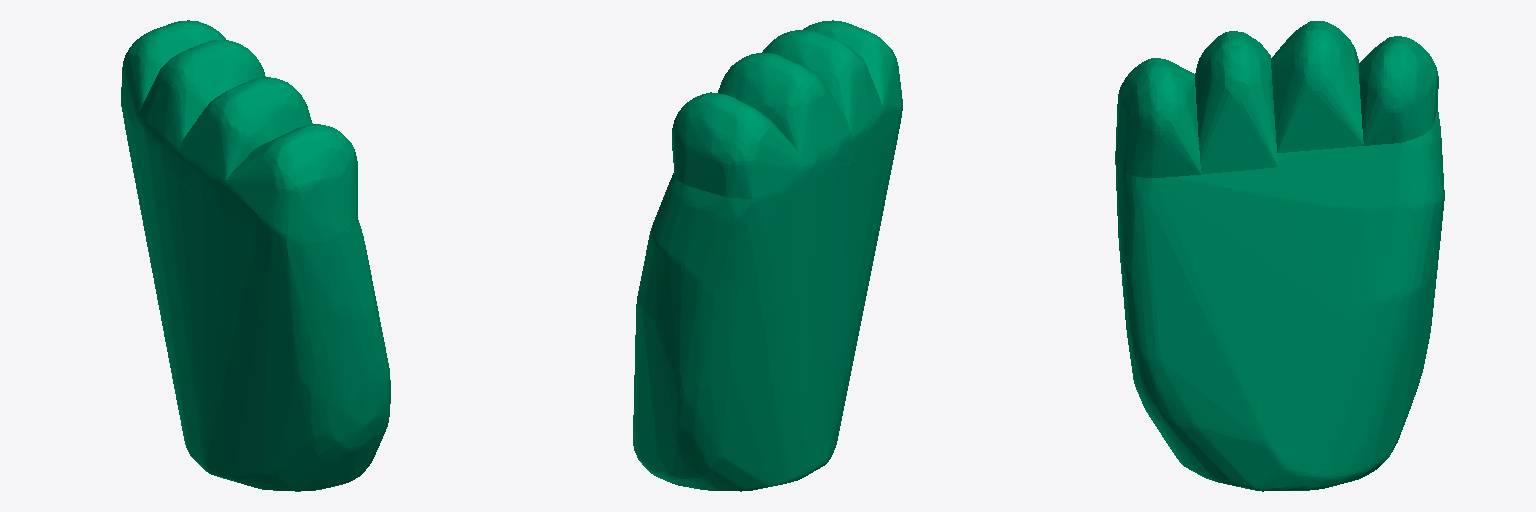
robot.urdf — ability_hand:
<robot name="ability_hand">
  <link name="base_link"/>
  <joint name="base_joint" type="fixed">
    <parent link="base_link"/>
    <child link="base"/>
    <origin xyz="0 0 0" rpy="0 0 -1.57079"/>
  </joint>
  <link name="base">
    <visual name="wrist_mesh">
      <origin rpy="0 0 0" xyz="0 0 0"/>
      <geometry>
        <mesh filename="meshes/visual/wristmesh.obj"/>
      </geometry>
    </visual>
    <collision>
      <origin xyz="0 0 0" rpy="0 0 0"/>
      <geometry>
        <mesh filename="meshes/collision/wristmesh_C.obj"/>
      </geometry>
    </collision>
    <inertial>  <!-- the mass and inertia here are NOT correct -->
      <mass value="0.200"/>
      <inertia ixx="978.26e-6" ixy="87.34e-6" ixz="322.99e-6" iyy="1244.78e-6" iyz="244.74e-6" izz="456.22e-6"/>
      <origin xyz="22.41911e-3 -0.15798201e-3 -0.01319866e-3" rpy="0 0 0"/>
    </inertial>
  </link>
  <joint name="wrist2thumb" type="fixed">
    <parent link="base"/>
    <child link="thumb_base"/>
    <origin xyz="-24.0476665e-3 3.78124745e-3 32.32964923e-3" rpy="3.14148426 -0.08848813 -3.14036612"/>
  </joint>
  <link name="thumb_base">
    <inertial>
      <mass value="0.400"/>
      <inertia ixx="978.26e-6" ixy="87.34e-6" ixz="322.99e-6" iyy="1244.78e-6" iyz="244.74e-6" izz="456.22e-6"/>
      <origin xyz="22.41911e-3 -0.15798201e-3 -0.01319866e-3" rpy="0 0 0"/>
    </inertial>
    <visual name="palm_mesh">
      <origin rpy="0 0 0" xyz="0 0 0"/>
      <geometry>
        <mesh filename="meshes/visual/FB_palm_ref_MIR.obj"/>
      </geometry>
    </visual>
    <collision>                                  <!-- thumb_base -->
      <origin xyz="0 0 0" rpy="0 0 0"/>
      <geometry>
        <mesh filename="meshes/collision/FB_palm_ref_MIR.obj"/>
      </geometry>
    </collision>
  </link>
  <link name="index_L1">
    <inertial>
      <mass value="0.00635888"/>
      <inertia ixx="0.29766e-4" ixy="-0.06447133e-4" ixz="-0.00423315e-4" iyy="3.6947967e-4" iyz="0.00083028e-4" izz="3.8176336e-4"/>
      <origin xyz="22.41911e-3 -0.15798201e-3 -0.01319866e-3" rpy="0 0 0"/>
    </inertial>
    <visual name="index_mesh_1">
      <origin xyz="38.472723e-3 3.257695e-3 0.000000" rpy="0 0 0.084474"/>
      <geometry>
        <mesh filename="meshes/visual/idx-F1.obj"/>
      </geometry>
    </visual>
    <collision>                                  <!-- index_L1 -->
      <origin xyz="0.036 -0.00175 0" rpy="0 0 0"/>
      <geometry>
        <sphere radius="0.0085"/>
      </geometry>
    </collision>
    <collision>
      <origin xyz="0.019 -0.0045 0" rpy="0 0 0.0845"/>
      <geometry>
        <box size="0.028 0.012 0.016"/>
      </geometry>
    </collision>
    <collision>
      <origin xyz="0.018 0.006 0" rpy="0 0 0.0845"/>
      <geometry>
        <box size="0.02 0.01 0.016"/>
      </geometry>
    </collision>
    <collision>
      <origin xyz="-0.001 0 0.007" rpy="0 0 0.0845"/>
      <geometry>
        <box size="0.012 0.012 0.002"/>
      </geometry>
    </collision>
    <collision>
      <origin xyz="-0.001 0 -0.007" rpy="0 0 0.0845"/>
      <geometry>
        <box size="0.012 0.012 0.002"/>
      </geometry>
    </collision>
  </link>
  <link name="index_L2">
    <inertial>
      <mass value="0.00645"/>
      <inertia ixx="0.82671e-4" ixy="-1.08876e-4" ixz="-0.00037e-4" iyy="1.98028e-4" iyz="0.00081e-4" izz="2.64638e-4"/>
      <origin rpy="0 0 0" xyz="13.36818e-3 -8.75392e-3 -0.02886e-3"/>
    </inertial>
    <visual name="index_mesh_2">
      <origin rpy="0 0 0" xyz="9.1241e-3 0 0"/>
      <geometry>
        <mesh filename="meshes/visual/idx-F2.obj"/>
      </geometry>
    </visual>
    <collision>                            <!-- index_L2 -->
      <origin xyz="0 0 0" rpy="0 0 0"/>
      <geometry>
        <mesh filename="meshes/collision/idx-F2_C.obj"/>
      </geometry>
    </collision>
    <collision>
      <origin xyz="0.03 -0.016 0" rpy="0 0 0"/>
      <geometry>
        <sphere radius="0.007"/>
      </geometry>
    </collision>
  </link>
  <joint name="index_q1" type="revolute">
    <parent link="thumb_base"/>
    <child link="index_L1"/>
    <origin xyz=" 9.49e-3 -13.04e-3 -62.95e-3 " rpy=" -1.1595426535897932 1.284473 -1.0510016535897932 "/>
    <axis xyz="0 0 1"/>
    <limit lower="0" upper="2.0943951" effort="6.0" velocity="8.0677777442"/>    <!-- angles in rad, efforts in N-m, velocity in rad/s -->
    <dynamics damping="0.001" friction="0.001"/>  <!-- Friction coefficient is not from quantitative measurement -->
  </joint>
  <joint name="index_q2" type="revolute">
    <parent link="index_L1"/>
    <child link="index_L2"/>
    <origin xyz="38.472723e-3 3.257695e-3 0.000000e-3" rpy="0 0 0.084474"/>
    <axis xyz="0 0 1"/>
    <limit lower="0.0" upper="2.6586" effort="6.0" velocity="8.0677777442"/>    <!-- angles in rad, efforts in N-m, velocity in rad/s -->
    <dynamics damping="0.001" friction="0.001"/>  <!-- Friction coefficient is not from quantitative measurement -->
  </joint>
  <link name="index_tip"/>
  <joint name="index_tip_joint" type="fixed">
    <parent link="index_L2"/>
    <child link="index_tip"/>
    <origin rpy="0 0 0" xyz="0.035  -0.018 0"/>
  </joint>
  <link name="middle_L1">
    <inertial>
      <mass value="0.00635888"/>
      <inertia ixx="0.29766e-4" ixy="-0.06447133e-4" ixz="-0.00423315e-4" iyy="3.6947967e-4" iyz="0.00083028e-4" izz="3.8176336e-4"/>
      <origin xyz="22.41911e-3 -0.15798201e-3 -0.01319866e-3" rpy="0 0 0"/>
    </inertial>
    <visual name="middle_mesh_1">
      <origin xyz="38.472723e-3 3.257695e-3 0.000000" rpy="0 0 0.084474"/>
      <geometry>
        <mesh filename="meshes/visual/idx-F1.obj"/>
      </geometry>
    </visual>
    <collision>                                  <!-- middle_L1 -->
      <origin xyz="0.036 -0.00175 0" rpy="0 0 0"/>
      <geometry>
        <sphere radius="0.0085"/>
      </geometry>
    </collision>
    <collision>
      <origin xyz="0.019 -0.0045 0" rpy="0 0 0.0845"/>
      <geometry>
        <box size="0.028 0.012 0.016"/>
      </geometry>
    </collision>
    <collision>
      <origin xyz="0.018 0.006 0" rpy="0 0 0.0845"/>
      <geometry>
        <box size="0.02 0.01 0.016"/>
      </geometry>
    </collision>
    <collision>
      <origin xyz="-0.001 0 0.007" rpy="0 0 0.0845"/>
      <geometry>
        <box size="0.012 0.012 0.002"/>
      </geometry>
    </collision>
    <collision>
      <origin xyz="-0.001 0 -0.007" rpy="0 0 0.0845"/>
      <geometry>
        <box size="0.012 0.012 0.002"/>
      </geometry>
    </collision>
  </link>
  <link name="middle_L2">
    <inertial>
      <mass value="0.00645"/>
      <inertia ixx="0.82671e-4" ixy="-1.08876e-4" ixz="-0.00037e-4" iyy="1.98028e-4" iyz="0.00081e-4" izz="2.64638e-4"/>
      <origin rpy="0 0 0" xyz="13.36818e-3 -8.75392e-3 -0.02886e-3"/>
    </inertial>
    <visual name="middle_mesh_2">
      <origin rpy="0 0 0" xyz="9.1241e-3 0 0"/>
      <geometry>
        <mesh filename="meshes/visual/idx-F2.obj"/>
      </geometry>
    </visual>
    <collision>                            <!-- middle_L2 -->
      <origin xyz="0 0 0" rpy="0 0 0"/>
      <geometry>
        <mesh filename="meshes/collision/idx-F2_C.obj"/>
      </geometry>
    </collision>
    <collision>
      <origin xyz="0.03 -0.016 0" rpy="0 0 0"/>
      <geometry>
        <sphere radius="0.007"/>
      </geometry>
    </collision>
  </link>
  <joint name="middle_q1" type="revolute">
    <parent link="thumb_base"/>
    <child link="middle_L1"/>
    <origin xyz=" -9.653191e-3 -15.310271e-3 -67.853949e-3 " rpy=" -1.2810616535897934 1.308458 -1.2453756535897933 "/>
    <limit lower="0" upper="2.0943951" effort="6.0" velocity="8.0677777442"/>    <!-- angles in rad, efforts in N-m, velocity in rad/s -->
    <dynamics damping="0.001" friction="0.001"/>  <!-- Friction coefficient is not from quantitative measurement -->
    <axis xyz="0 0 1"/>
  </joint>
  <joint name="middle_q2" type="revolute">
    <parent link="middle_L1"/>
    <child link="middle_L2"/>
    <origin xyz="38.472723e-3 3.257695e-3 0.000000" rpy="0 0 0.084474"/>
    <axis xyz="0 0 1"/>
    <limit lower="0.0" upper="2.6586" effort="6.0" velocity="8.0677777442"/>    <!-- angles in rad, efforts in N-m, velocity in rad/s -->
    <dynamics damping="0.001" friction="0.001"/>  <!-- Friction coefficient is not from quantitative measurement -->
  </joint>
  <link name="middle_tip"/>
  <joint name="middle_tip_joint" type="fixed">
    <parent link="middle_L2"/>
    <child link="middle_tip"/>
    <origin rpy="0 0 0" xyz="0.035  -0.018 0"/>
  </joint>
  <link name="ring_L1">
    <inertial>
      <mass value="0.00635888"/>
      <inertia ixx="0.29766e-4" ixy="-0.06447133e-4" ixz="-0.00423315e-4" iyy="3.6947967e-4" iyz="0.00083028e-4" izz="3.8176336e-4"/>
      <origin xyz="22.41911e-3 -0.15798201e-3 -0.01319866e-3" rpy="0 0 0"/>
    </inertial>
    <visual name="ring_mesh_1">
      <origin xyz="38.472723e-3 3.257695e-3 0.000000" rpy="0 0 0.084474"/>
      <geometry>
        <mesh filename="meshes/visual/idx-F1.obj"/>
      </geometry>
    </visual>
    <collision>                                  <!-- ring_L1 -->
      <origin xyz="0.036 -0.00175 0" rpy="0 0 0"/>
      <geometry>
        <sphere radius="0.0085"/>
      </geometry>
    </collision>
    <collision>
      <origin xyz="0.019 -0.0045 0" rpy="0 0 0.0845"/>
      <geometry>
        <box size="0.028 0.012 0.016"/>
      </geometry>
    </collision>
    <collision>
      <origin xyz="0.018 0.006 0" rpy="0 0 0.0845"/>
      <geometry>
        <box size="0.02 0.01 0.016"/>
      </geometry>
    </collision>
    <collision>
      <origin xyz="-0.001 0 0.007" rpy="0 0 0.0845"/>
      <geometry>
        <box size="0.012 0.012 0.002"/>
      </geometry>
    </collision>
    <collision>
      <origin xyz="-0.001 0 -0.007" rpy="0 0 0.0845"/>
      <geometry>
        <box size="0.012 0.012 0.002"/>
      </geometry>
    </collision>
  </link>
  <link name="ring_L2">
    <inertial>
      <mass value="0.00645"/>
      <inertia ixx="0.82671e-4" ixy="-1.08876e-4" ixz="-0.00037e-4" iyy="1.98028e-4" iyz="0.00081e-4" izz="2.64638e-4"/>
      <origin rpy="0 0 0" xyz="13.36818e-3 -8.75392e-3 -0.02886e-3"/>
    </inertial>
    <visual name="ring_mesh_2">
      <origin rpy="0 0 0" xyz="9.1241e-3 0 0"/>
      <geometry>
        <mesh filename="meshes/visual/idx-F2.obj"/>
      </geometry>
    </visual>
    <collision>                            <!-- ring_L2 -->
      <origin xyz="0 0 0" rpy="0 0 0"/>
      <geometry>
        <mesh filename="meshes/collision/idx-F2_C.obj"/>
      </geometry>
    </collision>
    <collision>
      <origin xyz="0.03 -0.016 0" rpy="0 0 0"/>
      <geometry>
        <sphere radius="0.007"/>
      </geometry>
    </collision>
  </link>
  <joint name="ring_q1" type="revolute">
    <parent link="thumb_base"/>
    <child link="ring_L1"/>
    <origin xyz=" -29.95426e-3 -14.212492e-3 -67.286105e-3 " rpy=" -1.424994653589793 1.321452 -1.4657306535897934 "/>
    <limit lower="0" upper="2.0943951" effort="6.0" velocity="8.0677777442"/>    <!-- angles in rad, efforts in N-m, velocity in rad/s -->
    <dynamics damping="0.001" friction="0.001"/>  <!-- Friction coefficient is not from quantitative measurement -->
    <axis xyz="0 0 1"/>
  </joint>
  <joint name="ring_q2" type="revolute">
    <parent link="ring_L1"/>
    <child link="ring_L2"/>
    <origin xyz="38.472723e-3 3.257695e-3 0.000000" rpy="0 0 0.084474"/>
    <axis xyz="0 0 1"/>
    <limit lower="0.0" upper="2.6586" effort="6.0" velocity="8.0677777442"/>    <!-- angles in rad, efforts in N-m, velocity in rad/s -->
    <dynamics damping="0.001" friction="0.001"/>  <!-- Friction coefficient is not from quantitative measurement -->
  </joint>
  <link name="ring_tip"/>
  <joint name="ring_tip_joint" type="fixed">
    <parent link="ring_L2"/>
    <child link="ring_tip"/>
    <origin rpy="0 0 0" xyz="0.035  -0.018 0"/>
  </joint>
  <link name="pinky_L1">
    <inertial>
      <mass value="0.00635888"/>
      <inertia ixx="0.29766e-4" ixy="-0.06447133e-4" ixz="-0.00423315e-4" iyy="3.6947967e-4" iyz="0.00083028e-4" izz="3.8176336e-4"/>
      <origin xyz="22.41911e-3 -0.15798201e-3 -0.01319866e-3" rpy="0 0 0"/>
    </inertial>
    <visual name="pinky_mesh_1">
      <origin xyz="38.472723e-3 3.257695e-3 0.000000" rpy="0 0 0.084474"/>
      <geometry>
        <mesh filename="meshes/visual/idx-F1.obj"/>
      </geometry>
    </visual>
    <collision>                                  <!-- pinky_L1 -->
      <origin xyz="0.036 -0.00175 0" rpy="0 0 0"/>
      <geometry>
        <sphere radius="0.0085"/>
      </geometry>
    </collision>
    <collision>
      <origin xyz="0.019 -0.0045 0" rpy="0 0 0.0845"/>
      <geometry>
        <box size="0.028 0.012 0.016"/>
      </geometry>
    </collision>
    <collision>
      <origin xyz="0.018 0.006 0" rpy="0 0 0.0845"/>
      <geometry>
        <box size="0.02 0.01 0.016"/>
      </geometry>
    </collision>
    <collision>
      <origin xyz="-0.001 0 0.007" rpy="0 0 0.0845"/>
      <geometry>
        <box size="0.012 0.012 0.002"/>
      </geometry>
    </collision>
    <collision>
      <origin xyz="-0.001 0 -0.007" rpy="0 0 0.0845"/>
      <geometry>
        <box size="0.012 0.012 0.002"/>
      </geometry>
    </collision>
  </link>
  <link name="pinky_L2">
    <inertial>
      <mass value="0.00645"/>
      <inertia ixx="0.82671e-4" ixy="-1.08876e-4" ixz="-0.00037e-4" iyy="1.98028e-4" iyz="0.00081e-4" izz="2.64638e-4"/>
      <origin rpy="0 0 0" xyz="13.36818e-3 -8.75392e-3 -0.02886e-3"/>
    </inertial>
    <visual name="pinky_mesh_2">
      <origin rpy="0 0 0" xyz="9.1241e-3 0 0"/>
      <geometry>
        <mesh filename="meshes/visual/idx-F2.obj"/>
      </geometry>
    </visual>
    <collision>                            <!-- pinky_L2 -->
      <origin xyz="0 0 0" rpy="0 0 0"/>
      <geometry>
        <mesh filename="meshes/collision/idx-F2_C.obj"/>
      </geometry>
    </collision>
    <collision>
      <origin xyz="0.03 -0.016 0" rpy="0 0 0"/>
      <geometry>
        <sphere radius="0.007"/>
      </geometry>
    </collision>
  </link>
  <joint name="pinky_q1" type="revolute">
    <parent link="thumb_base"/>
    <child link="pinky_L1"/>
    <origin xyz=" -49.521293e-3 -11.004583e-3 -63.029065e-3 " rpy=" -1.3764826535897934 1.32222 -1.4832096535897932 "/>
    <limit lower="0" upper="2.0943951" effort="6.0" velocity="8.0677777442"/>    <!-- angles in rad, efforts in N-m, velocity in rad/s -->
    <dynamics damping="0.001" friction="0.001"/>  <!-- Friction coefficient is not from quantitative measurement -->
    <axis xyz="0 0 1"/>
  </joint>
  <joint name="pinky_q2" type="revolute">
    <parent link="pinky_L1"/>
    <child link="pinky_L2"/>
    <origin xyz="38.472723e-3 3.257695e-3 0.000000" rpy="0 0 0.084474"/>
    <limit lower="0.0" upper="2.6586" effort="6.0" velocity="8.0677777442"/>    <!-- angles in rad, efforts in N-m, velocity in rad/s -->
    <dynamics damping="0.001" friction="0.001"/>  <!-- Friction coefficient is not from quantitative measurement -->
    <axis xyz="0 0 1"/>
  </joint>
  <link name="pinky_tip"/>
  <joint name="pinky_tip_joint" type="fixed">
    <parent link="pinky_L2"/>
    <child link="pinky_tip"/>
    <origin rpy="0 0 0" xyz="0.035  -0.018 0"/>
  </joint>
  <link name="thumb_L1">
    <inertial>
      <mass value="0.00268342"/>
      <inertia ixx="0.16931e-4" ixy="-0.076214e-4" ixz="-0.16959148e-4" iyy="0.77769934e-4" iyz="0.0156622e-4" izz="0.7249122e-4"/>
      <origin rpy="0 0 0" xyz="14.606e-3 -1.890854e-3 -3.1155356e-3"/>
    </inertial>
    <visual name="thumb_mesh_1">
      <origin xyz=" 27.8283501e-3 1.7436510745838653e-19 14.7507e-3 " rpy=" 1.832595714594045 -0.0 5.366520605522463e-18 "/>
      <geometry>
        <mesh filename="meshes/visual/thumb-F1-MIR.obj"/>
      </geometry>
    </visual>
    <collision>                            <!-- thumb_L1 -->
      <origin xyz="27.8283501e-3 1.7436510745838653e-19 14.7507e-3" rpy="1.832595714594045 -0.0 5.366520605522463e-18"/>
      <geometry>
        <mesh filename="meshes/collision/thumb-F1-MIR_C.obj"/>
      </geometry>
    </collision>
  </link>
  <link name="thumb_L2">
    <inertial>
      <mass value="0.0055"/>
      <inertia ixx="4.4789082e-4" ixy="4.4789082e-4" ixz="-0.62144934e-4" iyy="15.600996e-4" iyz="-0.07466143e-4" izz="17.908554e-4"/>
      <origin rpy="0 0 0" xyz="30.020522e-3 5.59476e-3 -4.1504356e-3"/>
    </inertial>
    <visual name="thumb_mesh_2">
      <origin xyz="65.18669e-3 23.34021e-3 3.93483e-3" rpy="-3.141592 0 0.343830"/>
      <geometry>
        <mesh filename="meshes/visual/thumb-F2.obj"/>
      </geometry>
    </visual>
    <collision>                            <!-- thumb_L2 -->
      <origin xyz="65.18669e-3 23.34021e-3 3.93483e-3" rpy="-3.141592 0 0.343830"/>
      <geometry>
        <mesh filename="meshes/collision/thumb-F2_C.obj"/>
      </geometry>
    </collision>
  </link>
  <joint name="thumb_q1" type="revolute">
    <parent link="thumb_base"/>
    <child link="thumb_L1"/>
    <origin xyz=" 0.0 0.0 0.0 " rpy=" 3.141592653589793 -0.0 -0.18884434641020664 "/>
    <axis xyz="0 0 1"/>
    <limit lower="-2.0943951" upper="0" effort="1.2" velocity="40.338888721"/>    <!-- angles in rad, efforts in N-m, velocity in rad/s -->
    <dynamics damping="0.001" friction="0.001"/>  <!-- Friction coefficient is not from quantitative measurement -->
  </joint>
  <joint name="thumb_q2" type="revolute">
    <parent link="thumb_L1"/>
    <child link="thumb_L2"/>
    <origin xyz=" 27.8283501e-3 1.7436510745838653e-19 14.7507e-3 " rpy=" 1.832595714594045 -0.0 5.366520605522463e-18 "/>
    <axis xyz="0 0 1"/>
    <limit lower="0" upper="2.0943951" effort="6.0" velocity="8.0677777442"/>    <!-- angles in rad, efforts in N-m, velocity in rad/s -->
    <dynamics damping="0.001" friction="0.001"/>  <!-- Friction coefficient is not from quantitative measurement -->
  </joint>
  <link name="thumb_tip"/>
  <joint name="thumb_tip_joint" type="fixed">
    <parent link="thumb_L2"/>
    <child link="thumb_tip"/>
    <origin rpy="0 0 0" xyz="0.065 0.016 0"/>
  </joint>
</robot>

--- Facts derived from the render (not from the file) ---
Views: 3 orthographic renders of the robot side by side, from view 1: azimuth 30°, elevation 25°; view 2: azimuth 150°, elevation 25°; view 3: azimuth 270°, elevation 25°.
Model ability_hand with 18 links and 17 joints (10 revolute, 7 fixed), rooted at base_link, posed all joints at 0.
Visible links, largest first — view 1: thumb_base; view 2: thumb_base; view 3: thumb_base.
Boxes of the visible links, left/top/right/bottom form: thumb_base: left=121, top=20, right=390, bottom=491; thumb_base: left=633, top=20, right=902, bottom=491; thumb_base: left=1115, top=21, right=1444, bottom=491.
Bounding box of the posed robot: 0.0552 × 0.083 × 0.1119 m (x, y, z).
1 mesh visuals loaded from 6 distinct referenced files (1 OBJ); not drawn: 11 (reference not matched to a file when rendering).